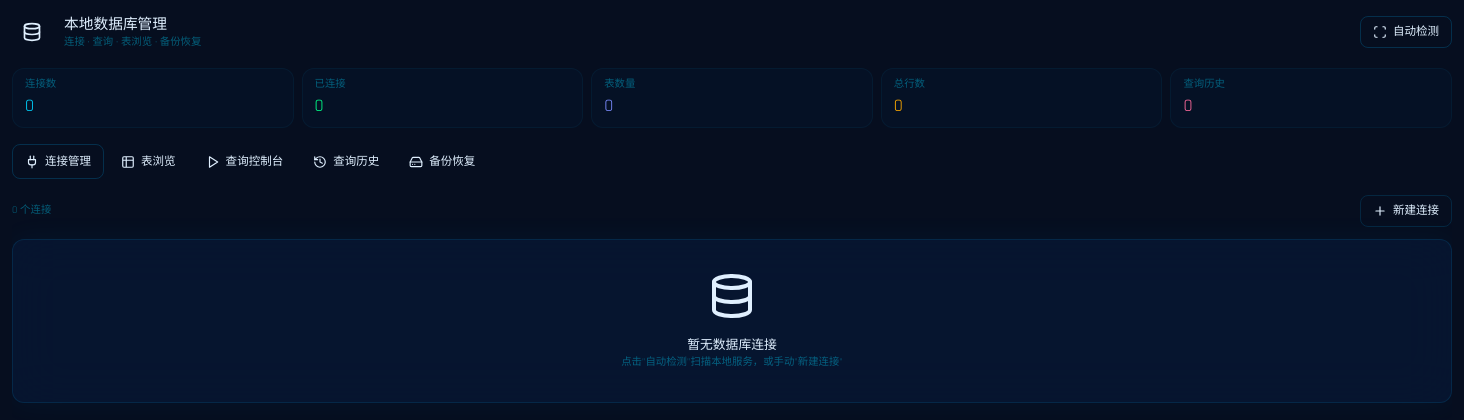
Test: DatabaseManager › 未连接时表浏览应提示先连接
The width and height of the screenshot is (1464, 420).
Click the button "表浏览" at (148, 162), box [108, 144, 189, 179]
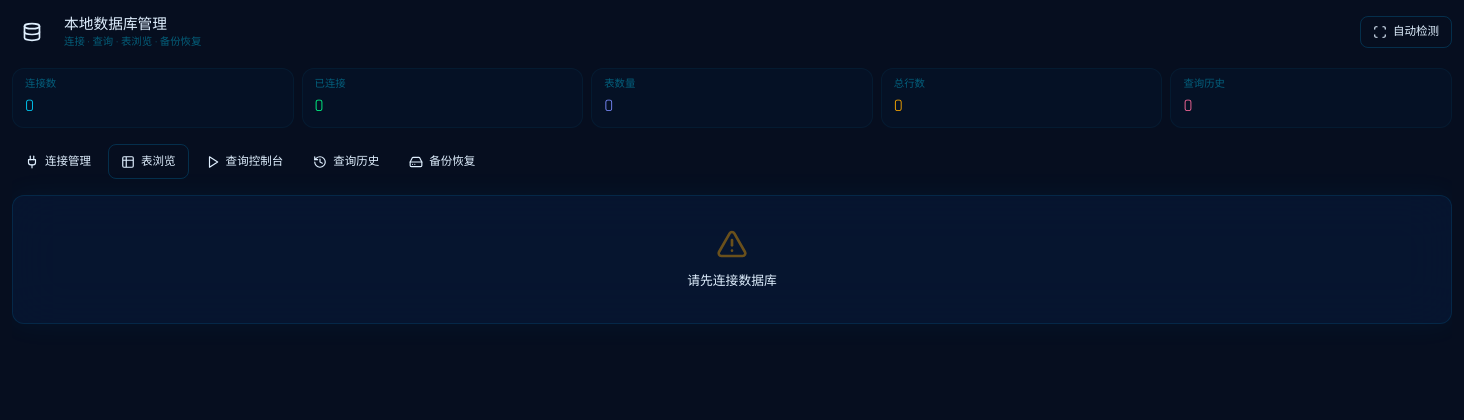
Expected: the text "请先连接数据库" is shown, [687, 273, 777, 289]
